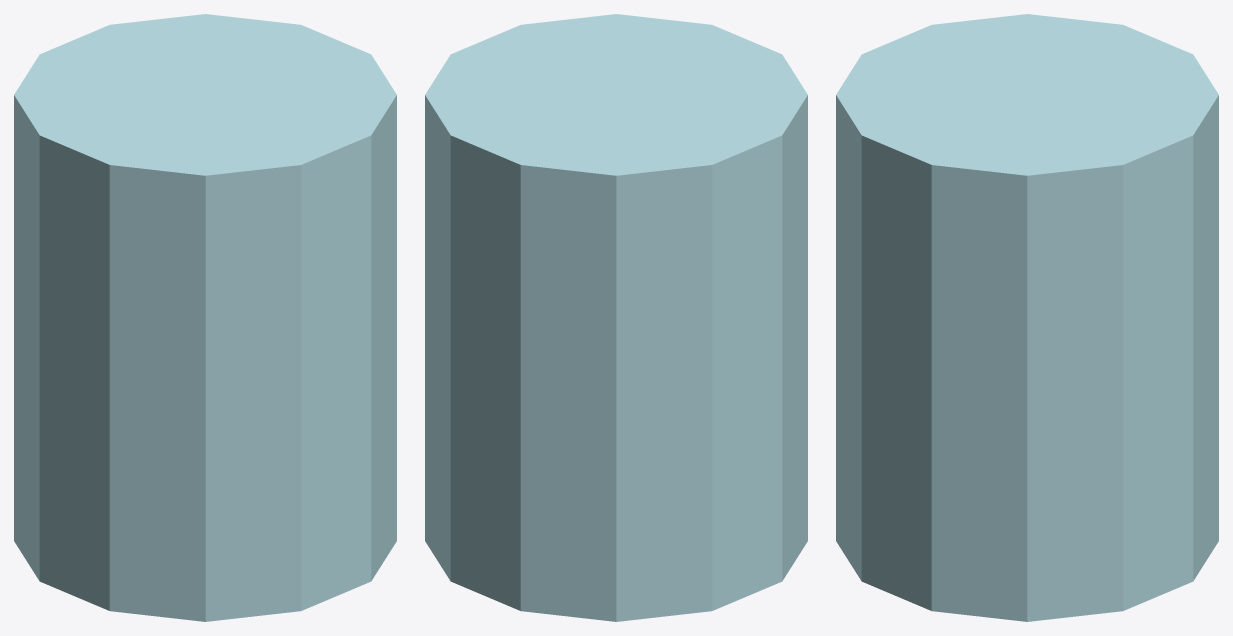
The picture shows the model from 3 angles, left to right: view 1: azimuth 30°, elevation 25°; view 2: azimuth 150°, elevation 25°; view 3: azimuth 270°, elevation 25°; orthographic projection.
Visible parts, largest first — view 1: cylinder; view 2: cylinder; view 3: cylinder.
Part boxes in pixels (box(x1,y1,x2,y2)): cylinder: box(14, 14, 396, 621); cylinder: box(425, 14, 807, 621); cylinder: box(836, 14, 1218, 621).
Bounding box in the file's own units: 0.7 × 0.9 × 0.7.
Materials: 1 (1 with a texture image).
